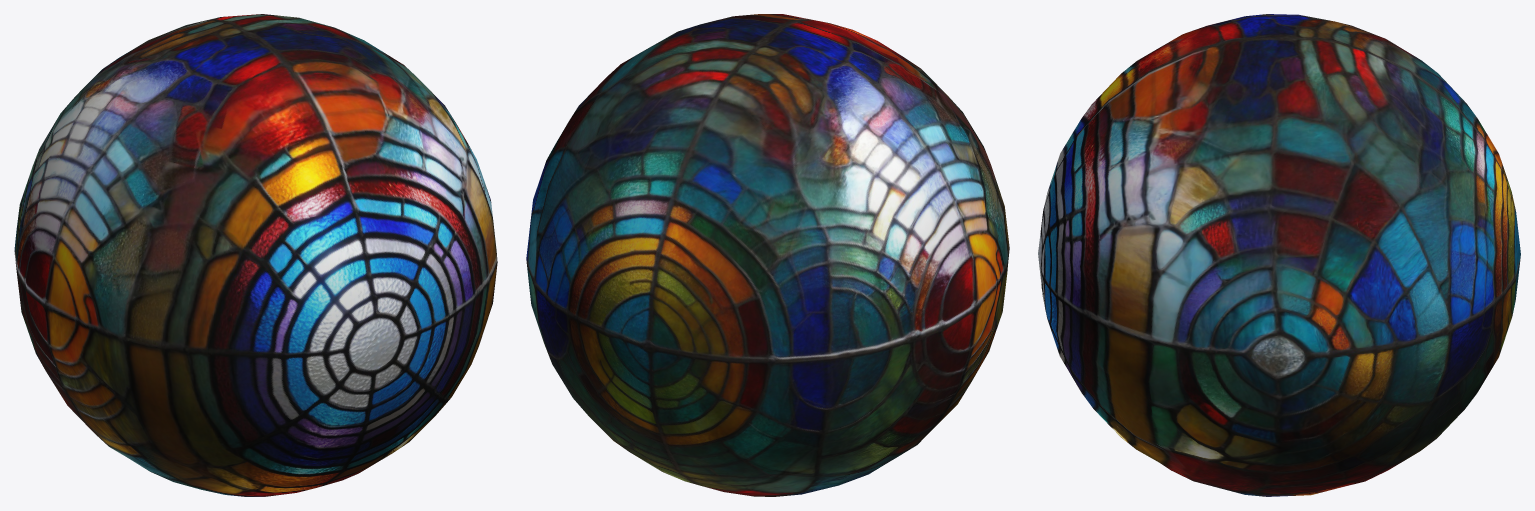
The model's file is testSphereUnit2.glb.
3 views of the same model, side by side, from view 1: azimuth 30°, elevation 25°; view 2: azimuth 150°, elevation 25°; view 3: azimuth 270°, elevation 25° (orthographic).
Visible parts, largest first — view 1: Mesh_0; view 2: Mesh_0; view 3: Mesh_0.
Boxes of the visible parts, x1,y1,x2,y2 form: Mesh_0: (14,14,497,496); Mesh_0: (526,14,1009,496); Mesh_0: (1038,14,1520,496).
Size of the model in its own units: 0.8002 by 0.8 by 0.801.
Materials: 1 (1 with a texture image).
